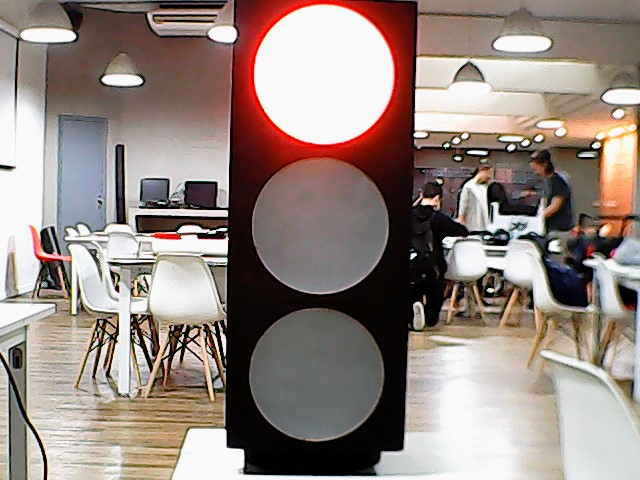vermelho: (222, 2, 415, 456)
